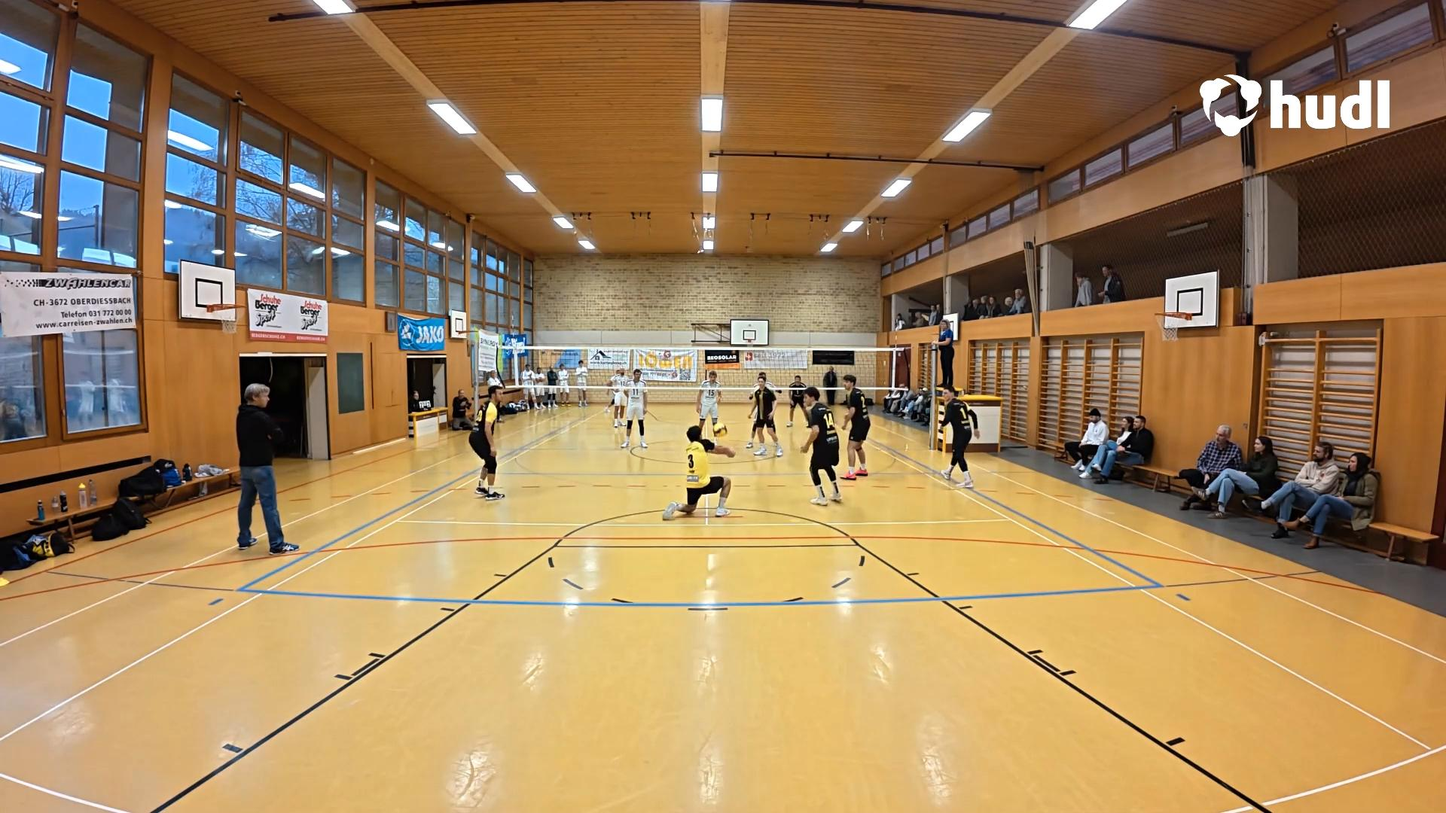ricezione: (669, 422, 737, 518)
